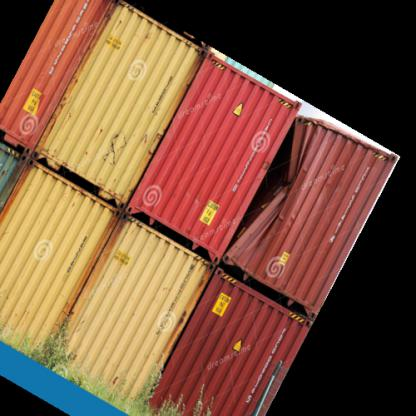Damage: (227, 119, 312, 248)
